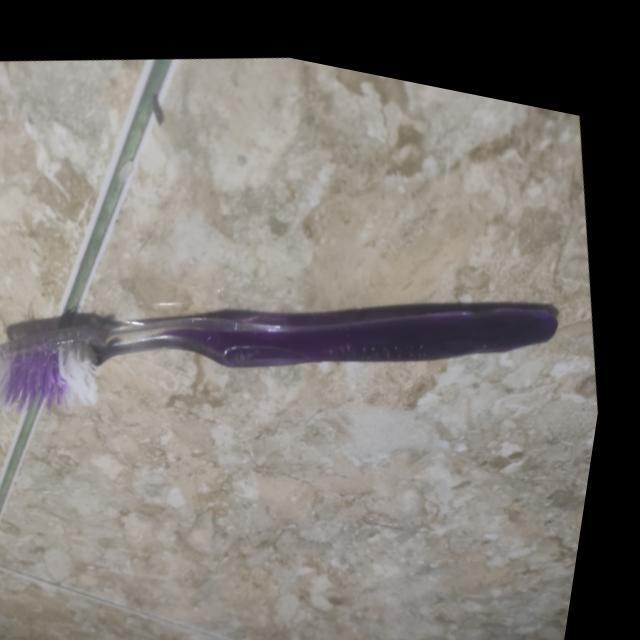toothbrush: (0, 175, 598, 500)
